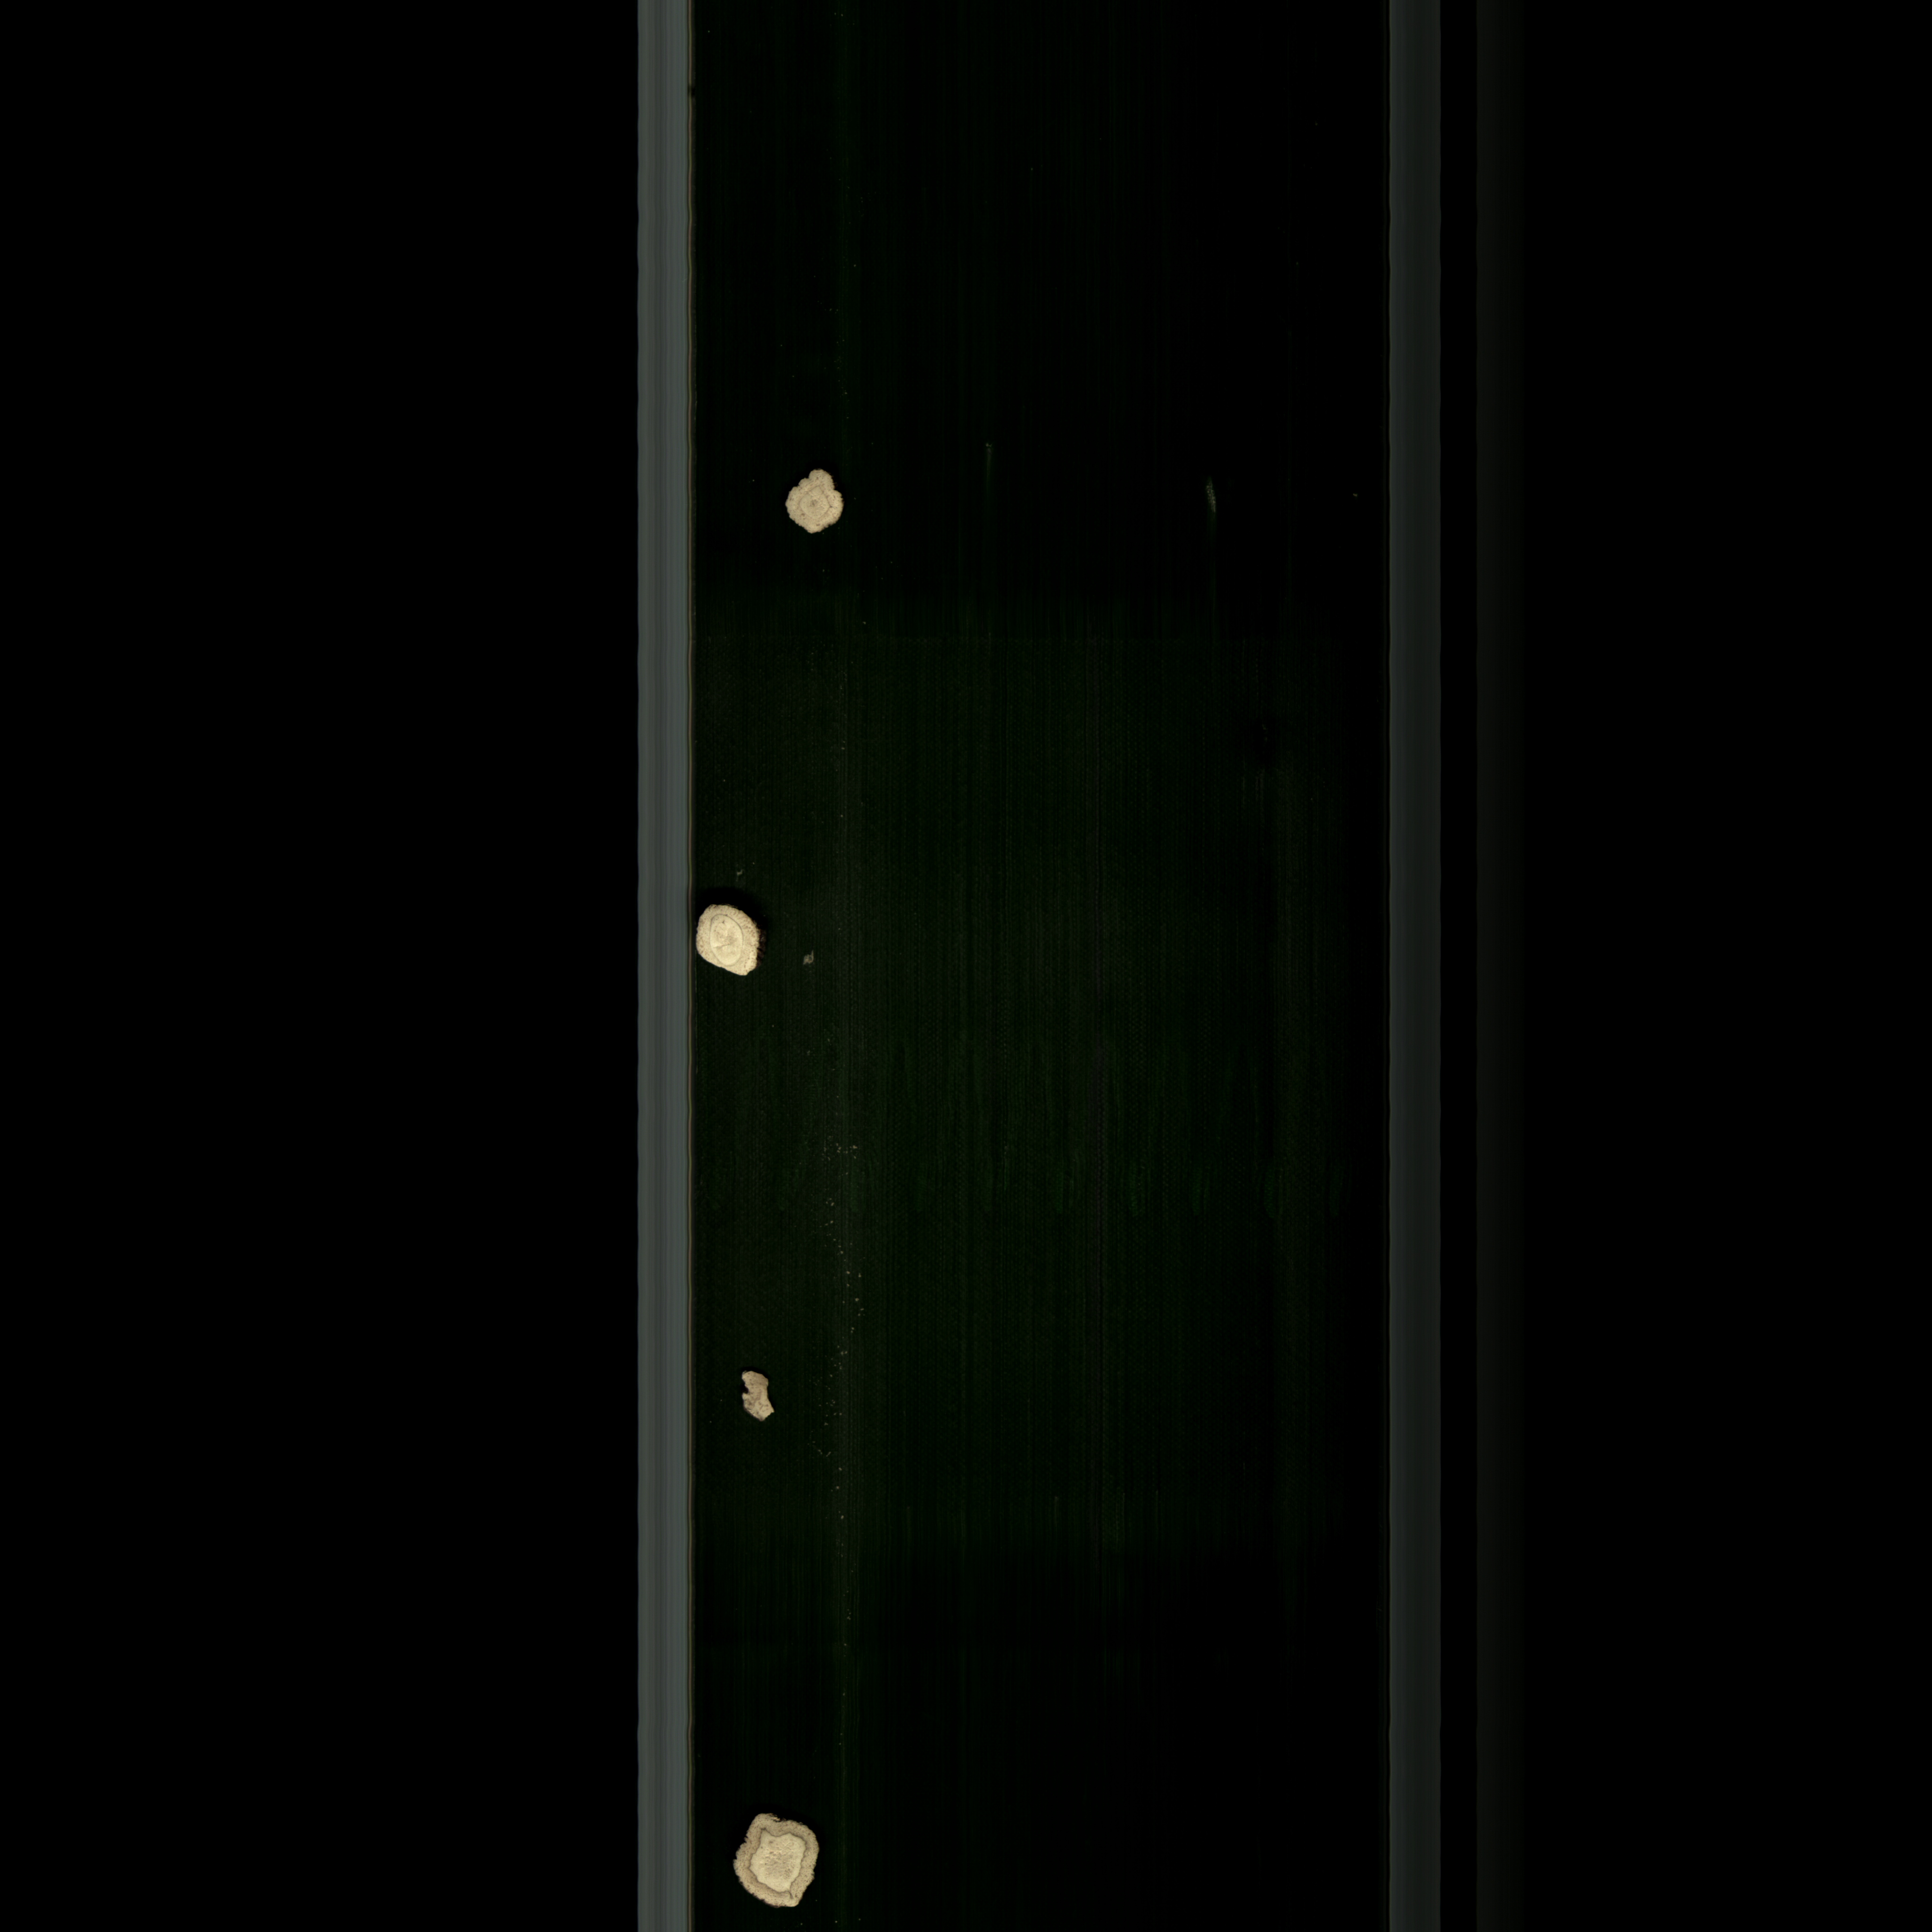debris: (688, 899, 780, 987)
distortion: (720, 1801, 823, 1923), (778, 456, 860, 543)
dreg: (727, 1366, 791, 1433)
